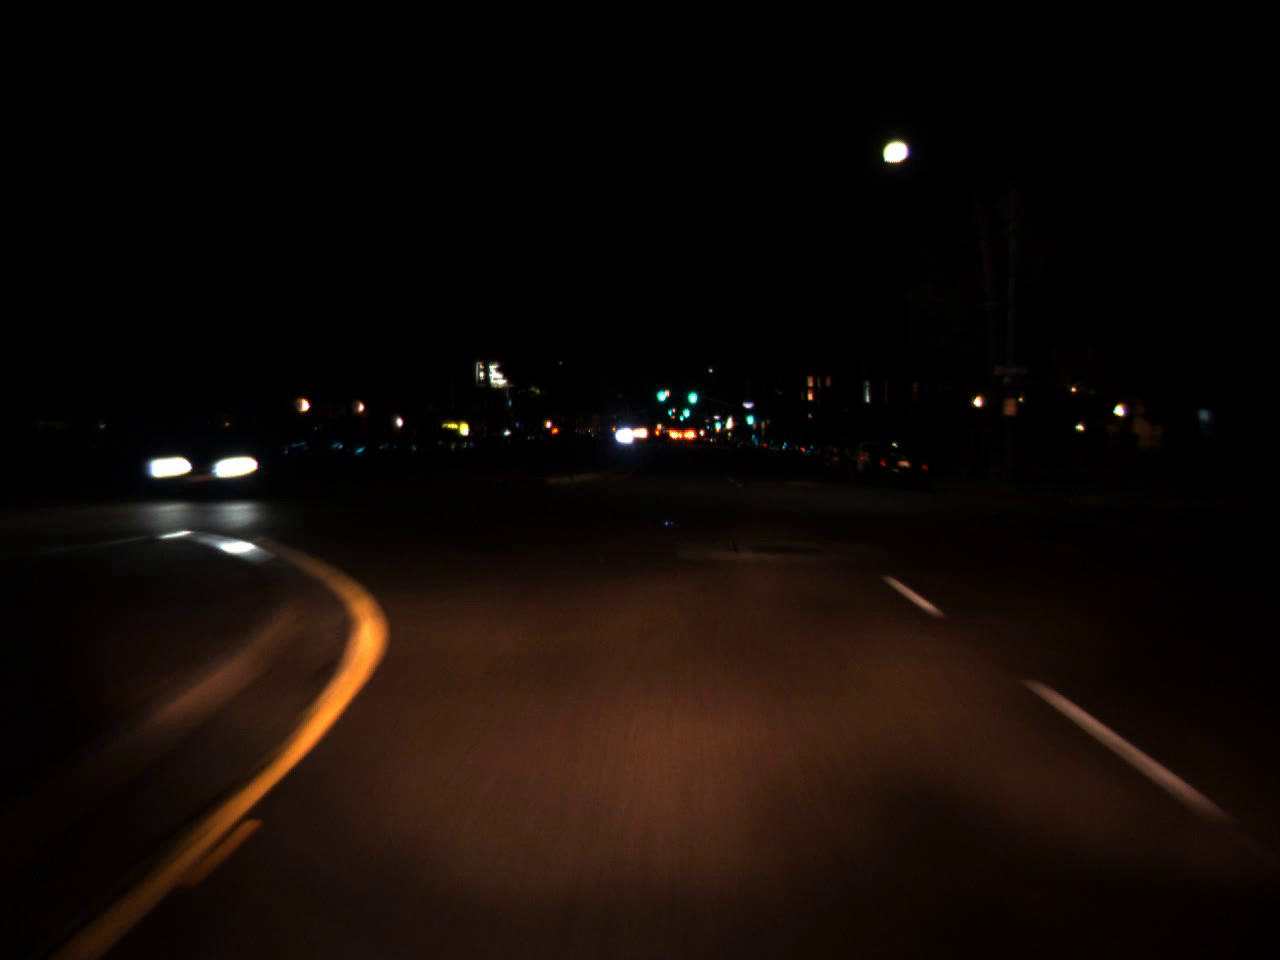go: (683, 378, 699, 408), (741, 403, 757, 427), (654, 378, 666, 405), (679, 401, 691, 416), (714, 415, 721, 430), (666, 405, 673, 417), (677, 410, 684, 422)
